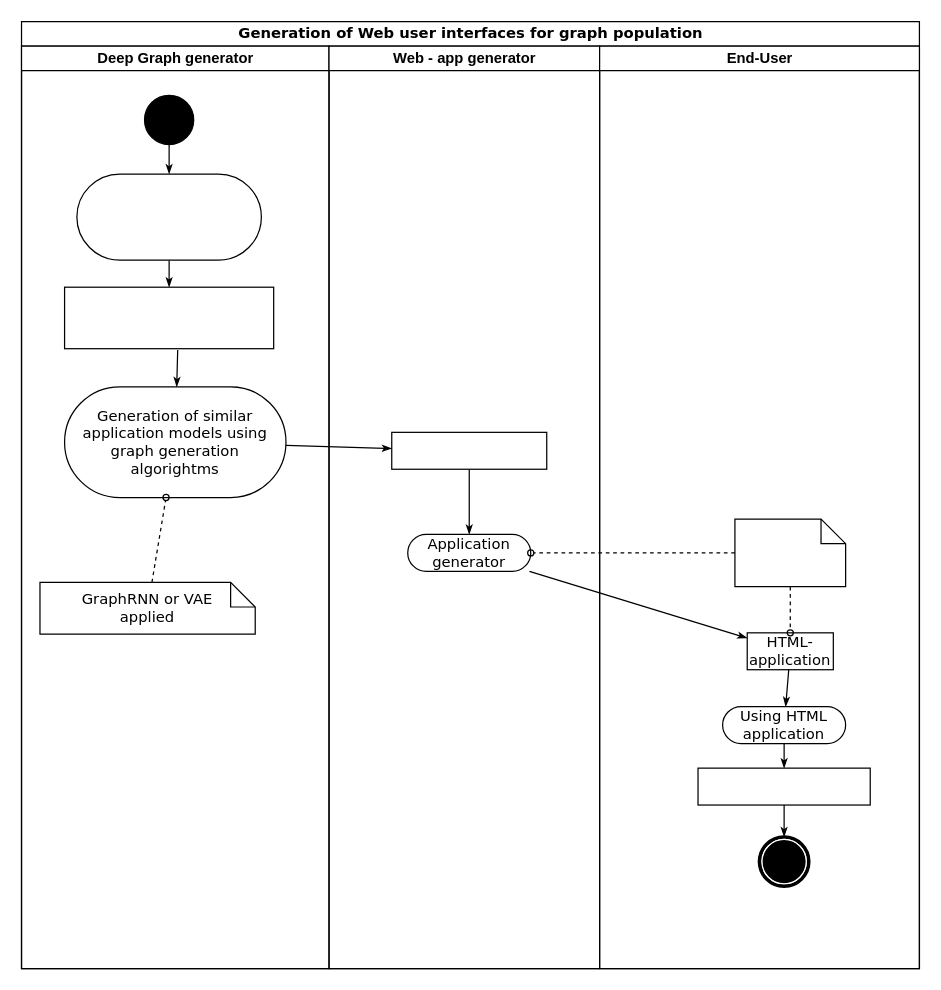
Some shapes in this 941 by 990 pixel diagram are drawn without their labels. Here are the shapes that lost their labels. From the top down, the box of each, then its label:
(76, 173, 261, 260): Select an existing RDF or property graph
(63, 286, 274, 349): Graph (representing HTML-application)
(391, 431, 547, 469): Model of HTML-application
(734, 518, 846, 587): Note
(697, 767, 870, 805): RDF graph or property graph
